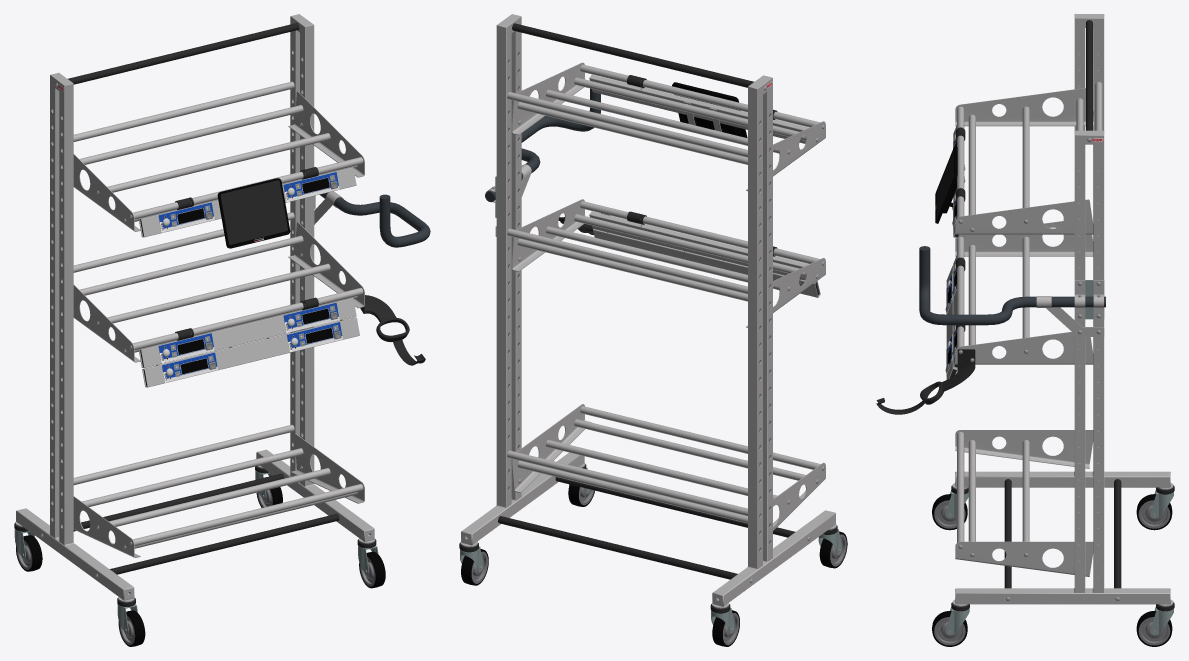
Rendered from PickerCart.fbx.
3 views of the same model, side by side, from view 1: azimuth 30°, elevation 25°; view 2: azimuth 150°, elevation 25°; view 3: azimuth 270°, elevation 25° (orthographic). The views are drawn at different scales.
Parts seen in each view (by area): view 1: Frame, Technics, PTL_Panel, Tablet, BCSFixPoint, Tire, Tire_2, Tire_3; view 2: Frame, Technics, Tablet, Tire, Tire_4, Tire_2; view 3: Frame, BCSFixPoint, Tablet, Technics, Tire_3, Tire_4, Tire_2, Tire, PTL_Panel, W3, W2, W4.
Part boxes in pixels (x1,y1,x2,y2): Frame: (15, 14, 430, 602); Technics: (138, 167, 359, 387); PTL_Panel: (158, 172, 342, 382); Tablet: (217, 178, 290, 248); BCSFixPoint: (360, 295, 425, 365); Tire: (118, 610, 145, 646); Tire_2: (16, 535, 42, 571); Tire_3: (359, 551, 385, 588); Frame: (460, 14, 836, 608); Technics: (589, 74, 820, 297); Tablet: (672, 82, 747, 137); Tire: (819, 531, 847, 568); Tire_4: (461, 549, 488, 585); Tire_2: (712, 610, 739, 646); Frame: (919, 14, 1173, 606); BCSFixPoint: (876, 349, 975, 414); Tablet: (935, 146, 964, 223); Technics: (946, 125, 965, 379); Tire_3: (932, 611, 967, 646); Tire_4: (1136, 611, 1172, 646); Tire_2: (1136, 494, 1172, 530); Tire: (932, 494, 967, 530); PTL_Panel: (946, 140, 956, 375); W3: (945, 602, 969, 635); W2: (1150, 485, 1174, 518); W4: (1150, 602, 1174, 635).
Size of the model in its own units: 96.1 by 158 by 83.04.
